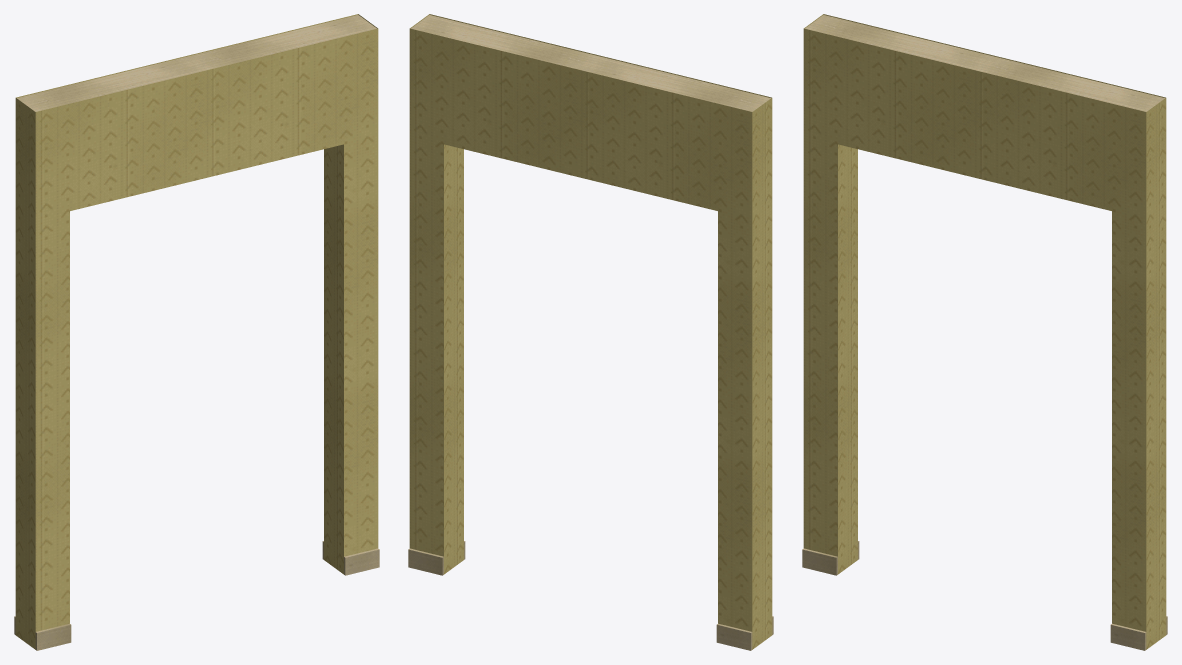
File: back_wall_doorway.obj
3 renders of one model, left to right at view 1: azimuth 30°, elevation 25°; view 2: azimuth 150°, elevation 25°; view 3: azimuth 330°, elevation 25°, orthographic.
Parts seen in each view (by area): view 1: back_wall_doorway_wall, back_wall_doorway_trim; view 2: back_wall_doorway_wall, back_wall_doorway_trim; view 3: back_wall_doorway_wall, back_wall_doorway_trim.
Part boxes in pixels (x1,y1,x2,y2): back_wall_doorway_wall: (15,14,378,649); back_wall_doorway_trim: (14,15,379,650); back_wall_doorway_wall: (409,14,772,649); back_wall_doorway_trim: (408,15,773,650); back_wall_doorway_wall: (803,14,1166,649); back_wall_doorway_trim: (802,15,1167,650).
Size of the model in its own units: 2 by 3 by 0.23.
Materials: 2 (2 with a texture image).
